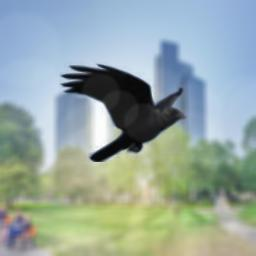Crow: (59, 62, 189, 162)
